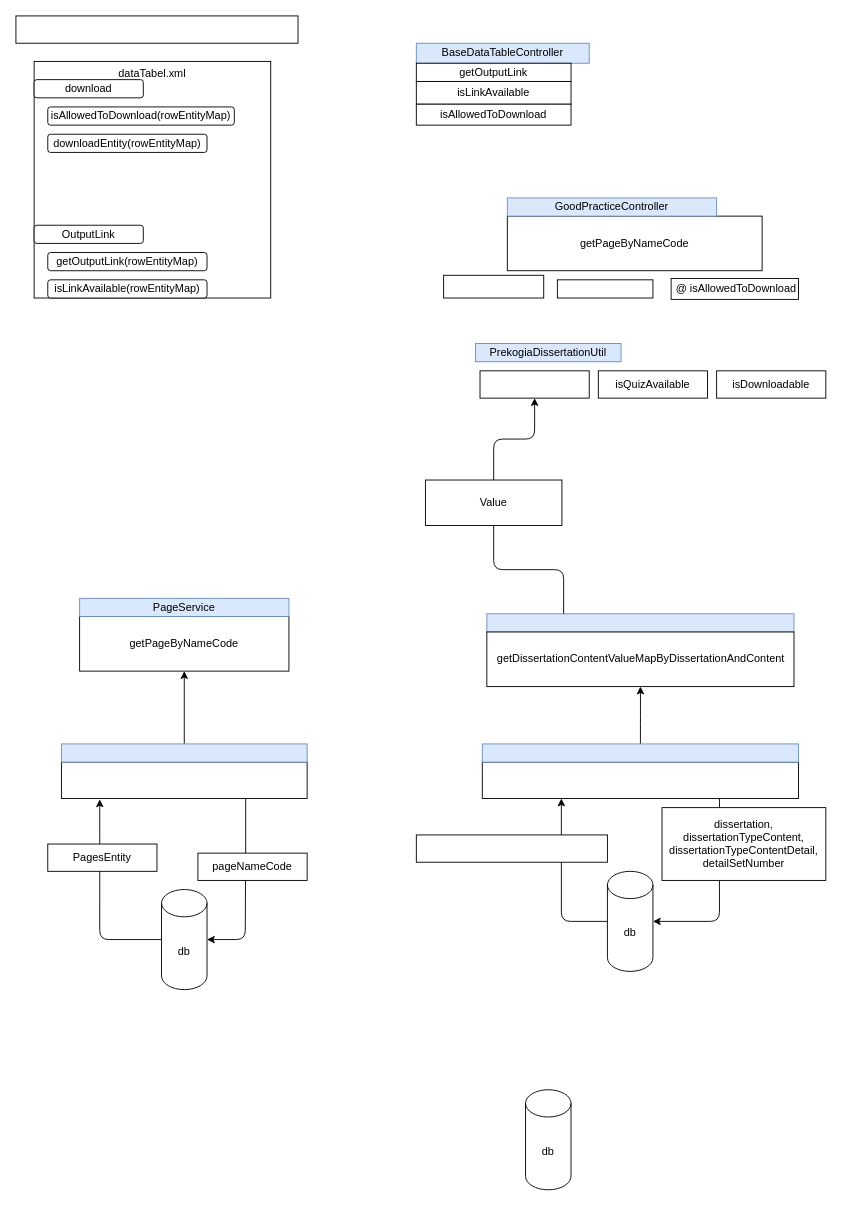
Image size: 842x1206. Some labels were removed from this diagram. Each missing label, with the centre of its shape:
"@ getOutputLink" belongs at point (604, 288).
"@ isLinkAvailable" belongs at point (493, 286).
"DissertationContentValueMapDAO" belongs at point (640, 752).
"DissertationContentValueMapEntity" belongs at point (511, 848).
"DissertationContentValueMapService" belongs at point (640, 622).
"Framework" belongs at point (156, 29).
"getQuizLink" belongs at point (534, 384).
"PagesDAO" belongs at point (184, 752).
"selectDissertationContentValueMapByDissertationAndContent" belongs at point (640, 780).
"selectPageByPageNameCode" belongs at point (184, 780).
